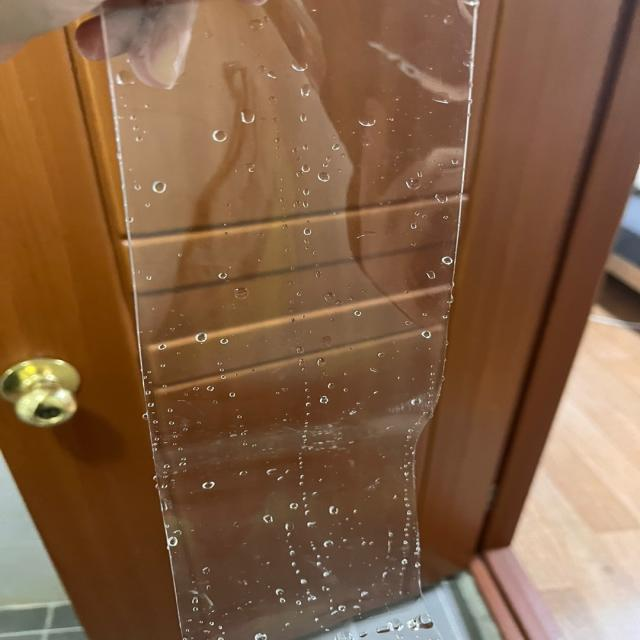raindrop: (226, 102, 265, 128), (206, 121, 237, 147), (357, 109, 387, 131), (290, 86, 323, 103), (400, 172, 427, 190), (432, 250, 456, 269), (153, 175, 174, 195), (191, 331, 214, 349), (168, 534, 192, 551), (198, 474, 218, 494), (260, 511, 281, 530), (415, 266, 438, 283), (431, 188, 457, 203), (347, 302, 370, 318), (183, 612, 208, 626), (292, 220, 313, 236), (317, 170, 335, 188), (291, 160, 318, 172), (418, 332, 438, 347), (317, 392, 335, 408), (198, 562, 212, 580), (408, 392, 426, 406), (273, 586, 288, 602), (322, 501, 336, 518), (273, 600, 292, 612), (215, 340, 235, 351), (352, 586, 372, 597), (406, 220, 424, 232), (304, 594, 320, 607), (320, 572, 338, 583), (254, 460, 271, 471), (286, 496, 301, 508), (195, 596, 209, 604)
